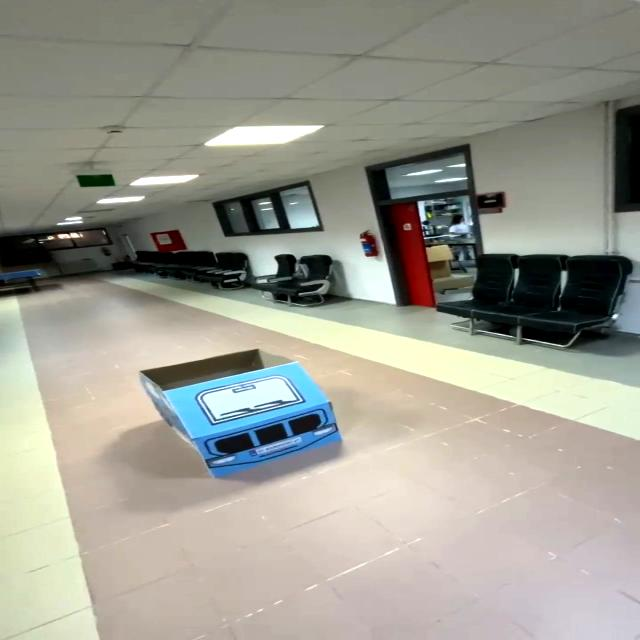blue_car: (105, 339, 368, 489)
